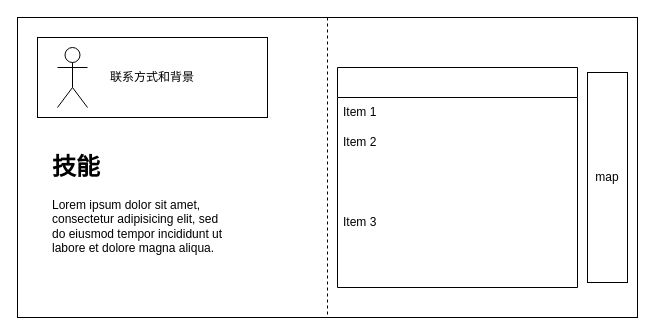
This 655x336 diagram has some shape labels left out. Each missing label, with the box of its shape:
Actor: (56, 46, 88, 108)
工作经历: (336, 66, 578, 288)
